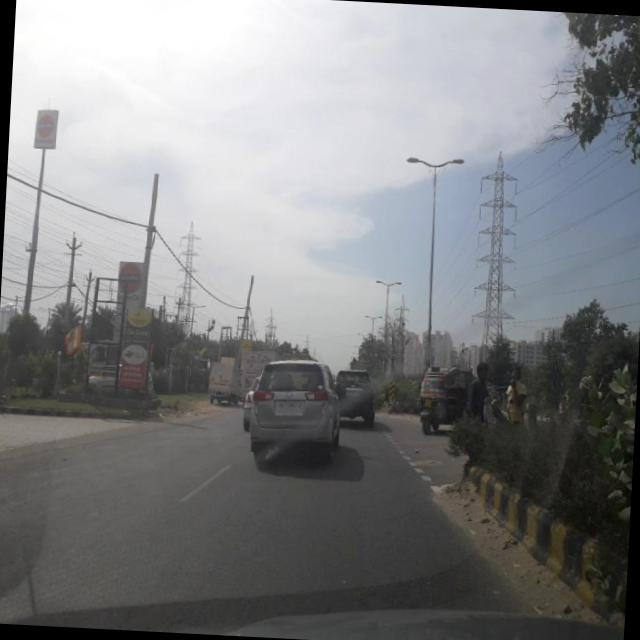crack: (0, 449, 524, 607)
